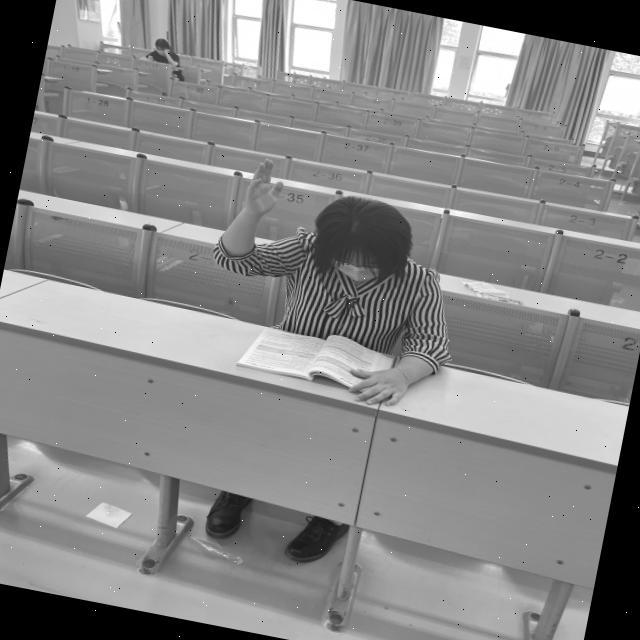study: (195, 154, 478, 415)
